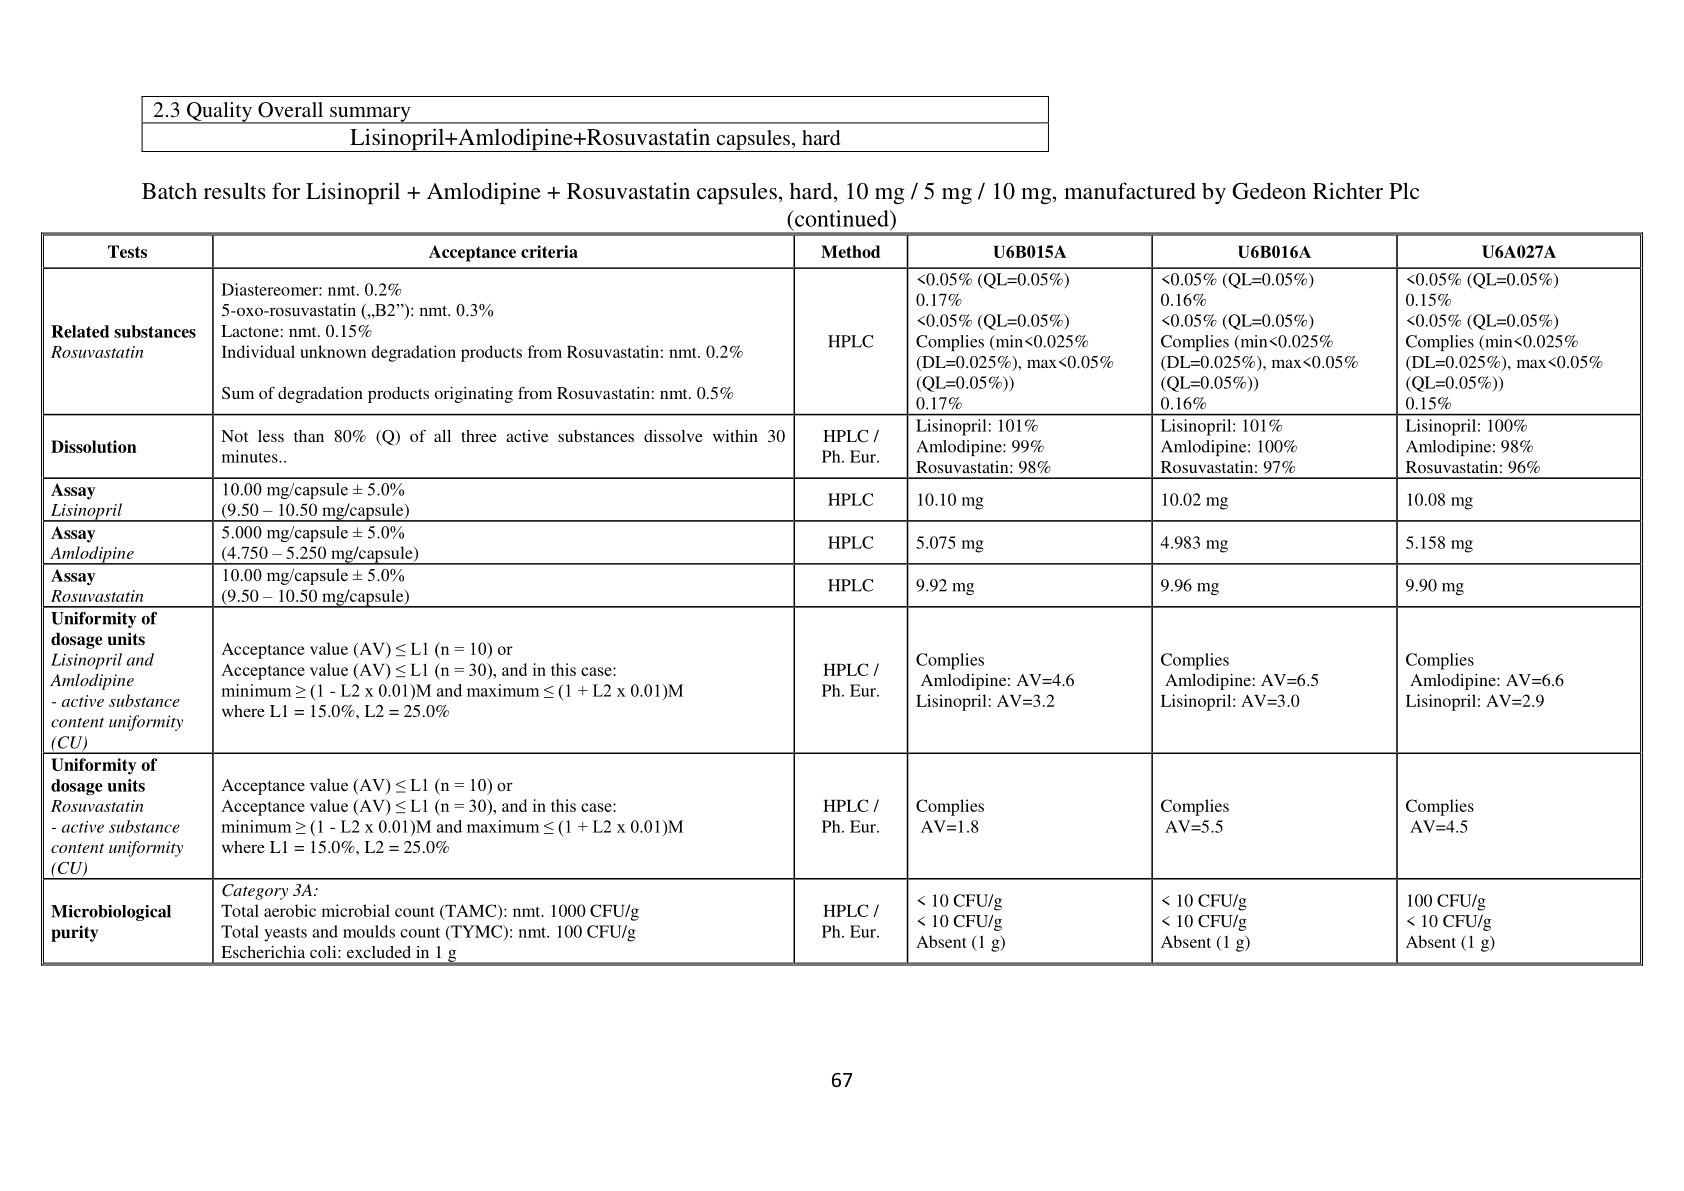full_lined: (40, 232, 1643, 965), (140, 98, 1048, 151)
